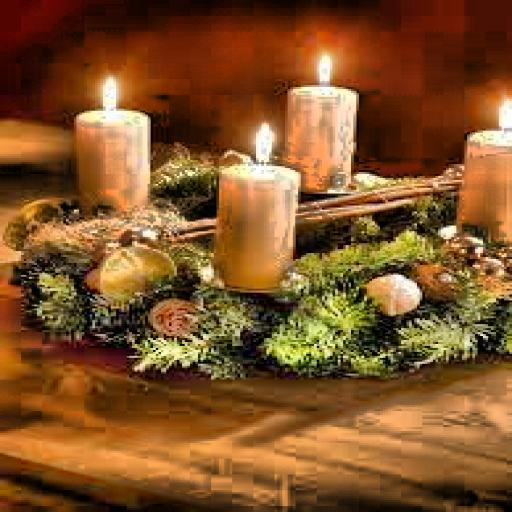fire: (95, 69, 135, 115), (250, 117, 280, 168), (314, 43, 343, 91), (488, 91, 510, 128)
